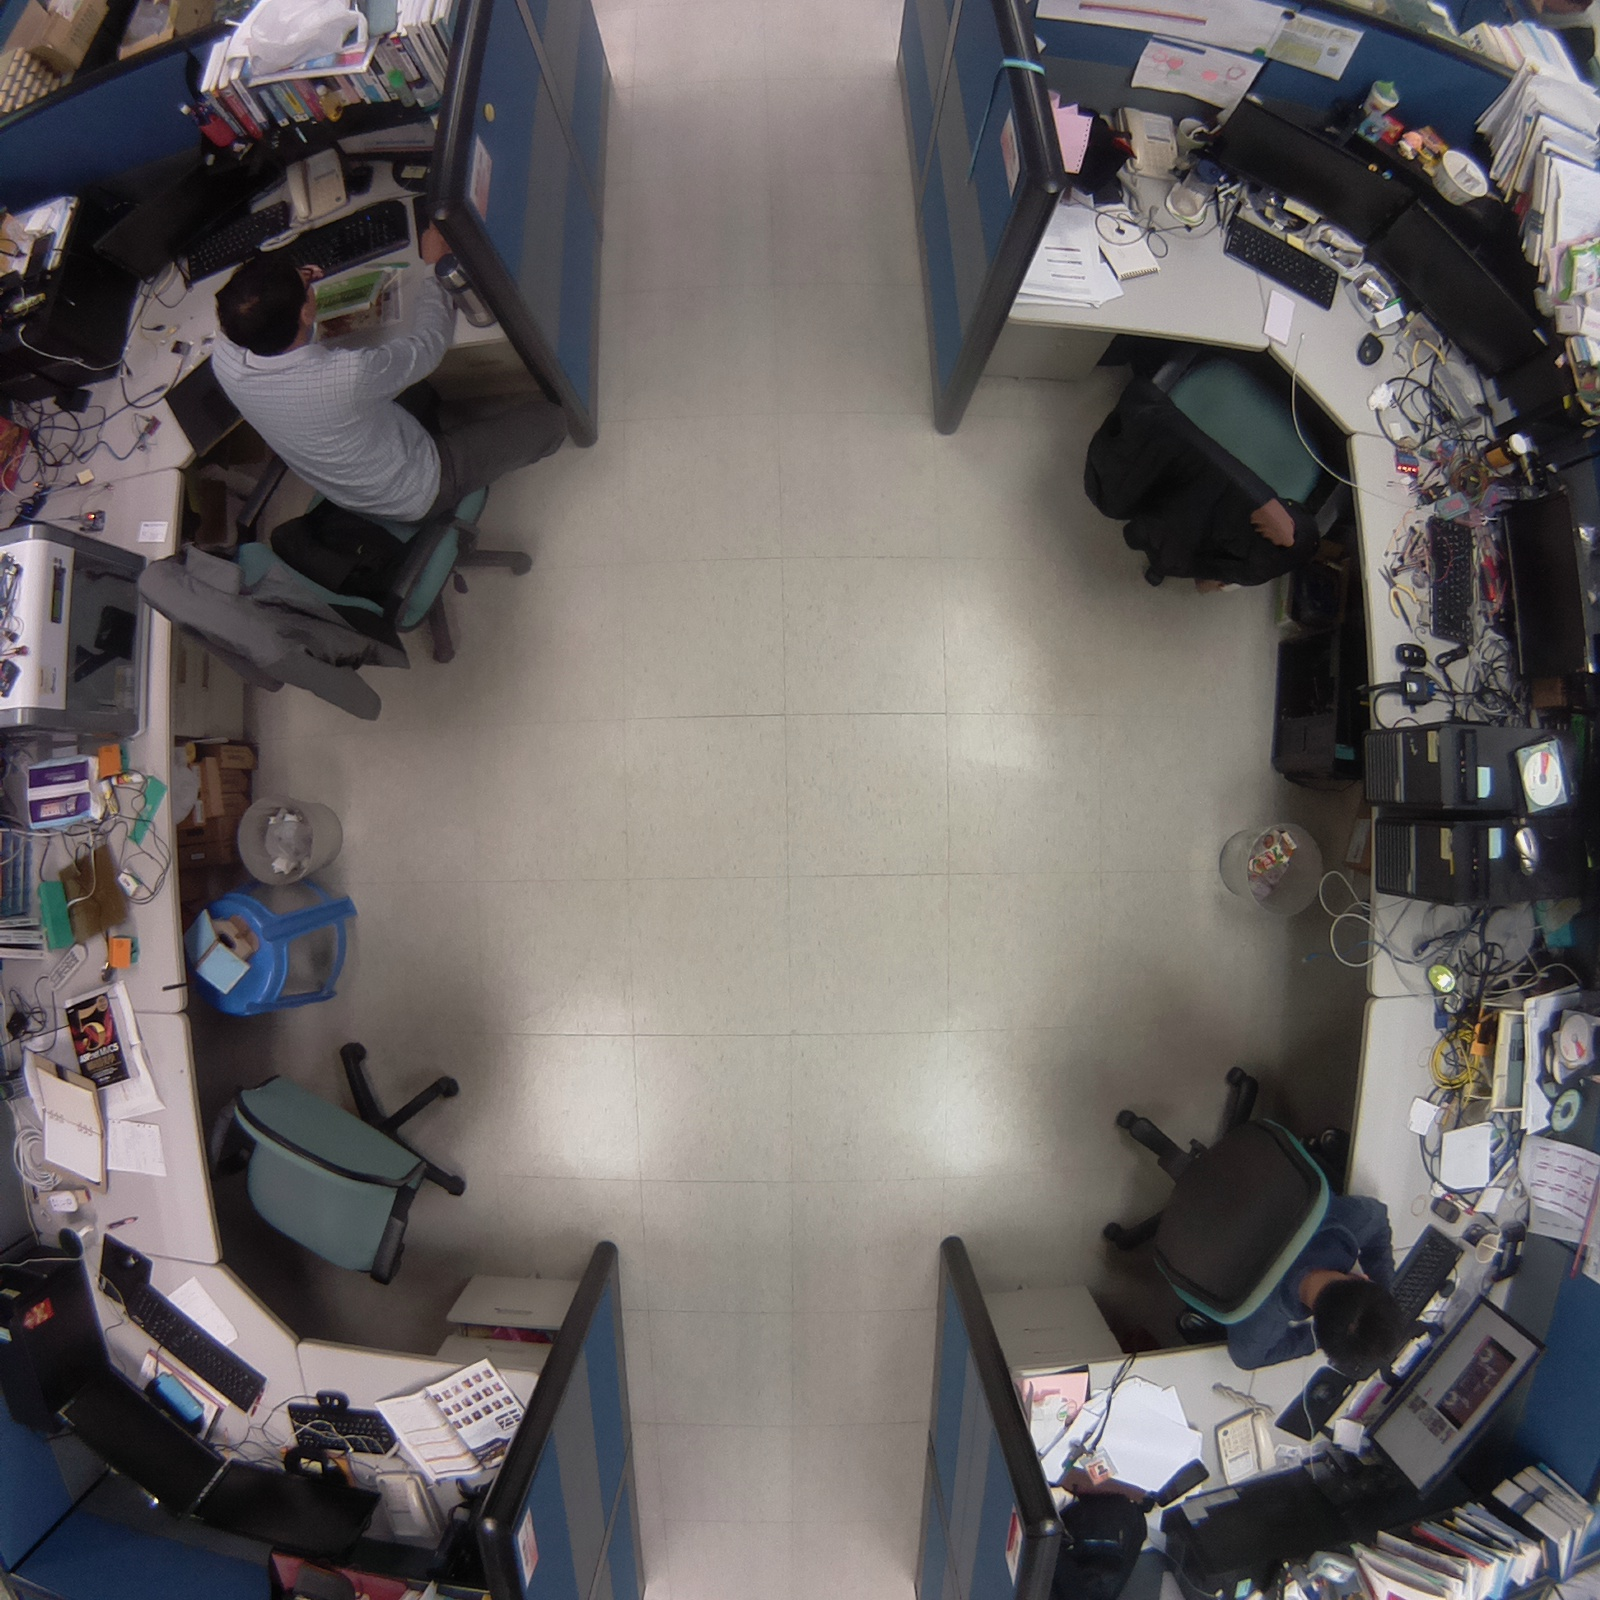chair: (1058, 319, 1370, 611), (206, 1022, 488, 1311)
head: (210, 251, 321, 363), (1306, 1270, 1415, 1385)
sitting: (114, 237, 588, 729), (1081, 1047, 1424, 1381)
